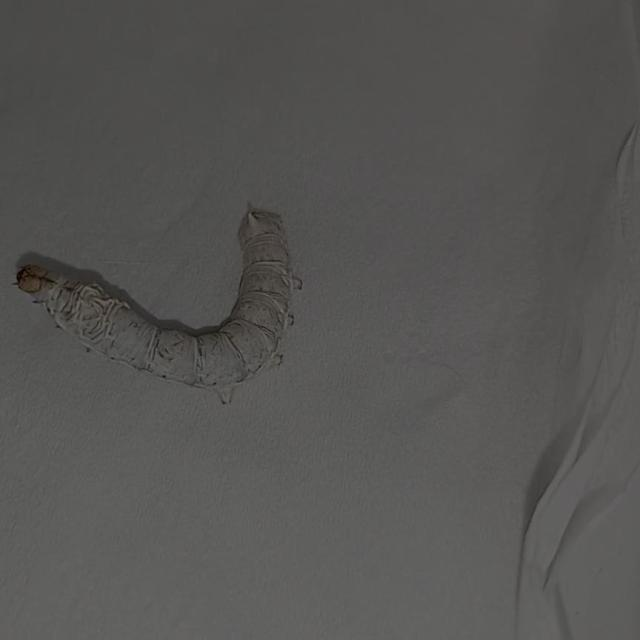Healthy: (9, 184, 317, 424)
